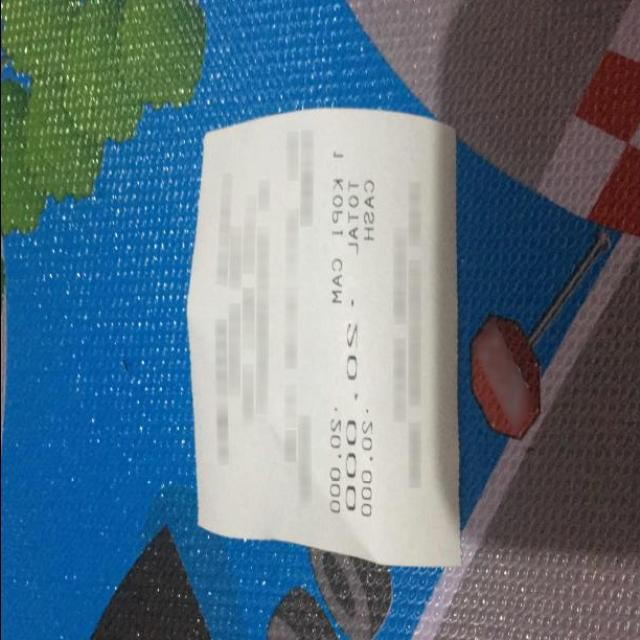kertas: (184, 107, 460, 569)
